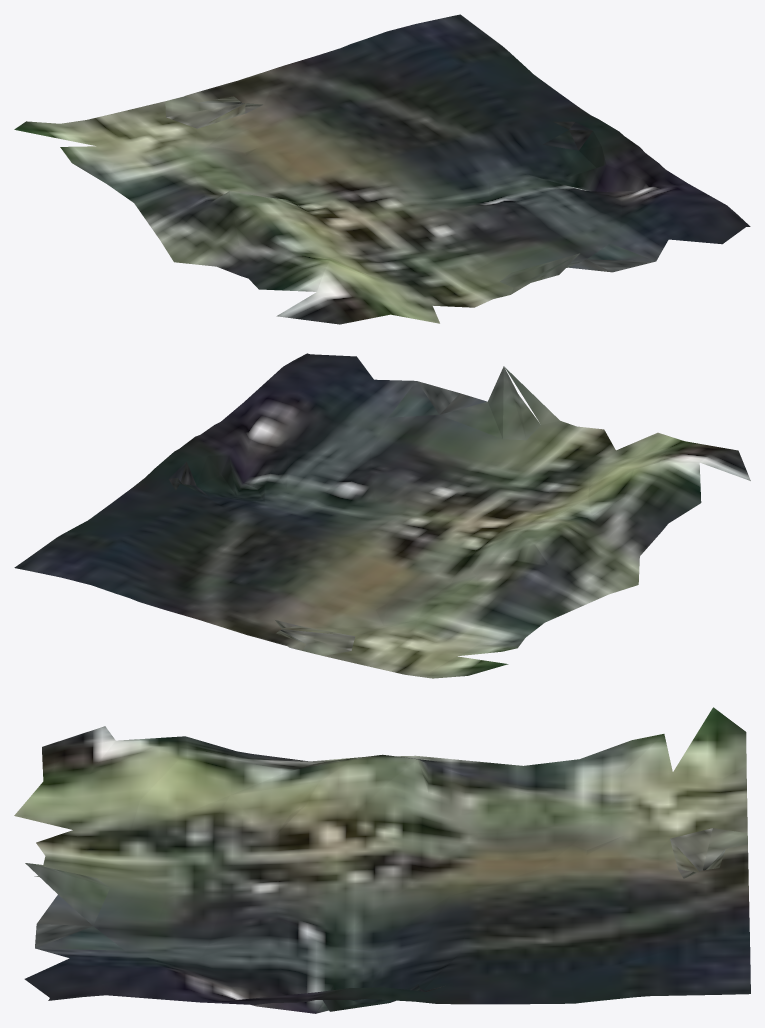
File: Tile_002_003_L14_444.glb
The picture shows the model from 3 angles, top to bottom: view 1: azimuth 30°, elevation 25°; view 2: azimuth 150°, elevation 25°; view 3: azimuth 270°, elevation 25°; orthographic projection. The views are drawn at different scales.
Parts seen in each view (by area): view 1: rtc; view 2: rtc; view 3: rtc.
Part boxes in pixels (x1,y1,x2,y2): rtc: (14, 14, 750, 324); rtc: (14, 353, 750, 678); rtc: (14, 707, 750, 1013).
Size of the model in its own units: 20.86 by 2.49 by 23.32.
Materials: 1 (1 with a texture image).
